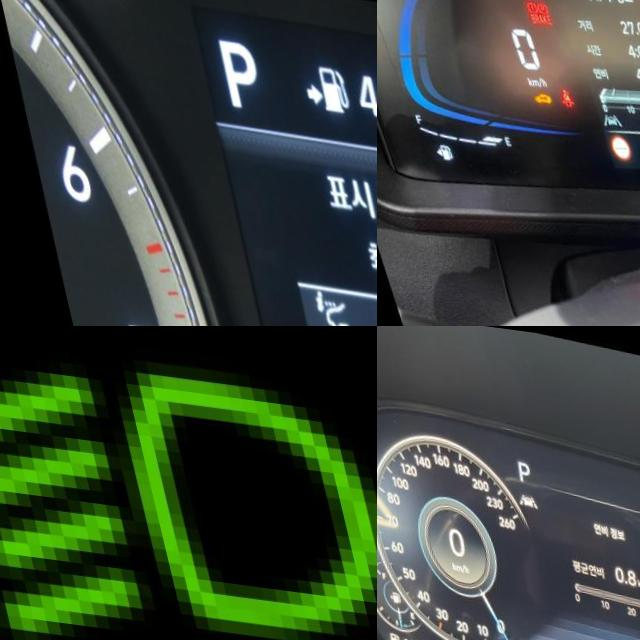LaneCenteringOff: (582, 104, 605, 120), (508, 484, 529, 501)
Low beam: (0, 326, 377, 640)
